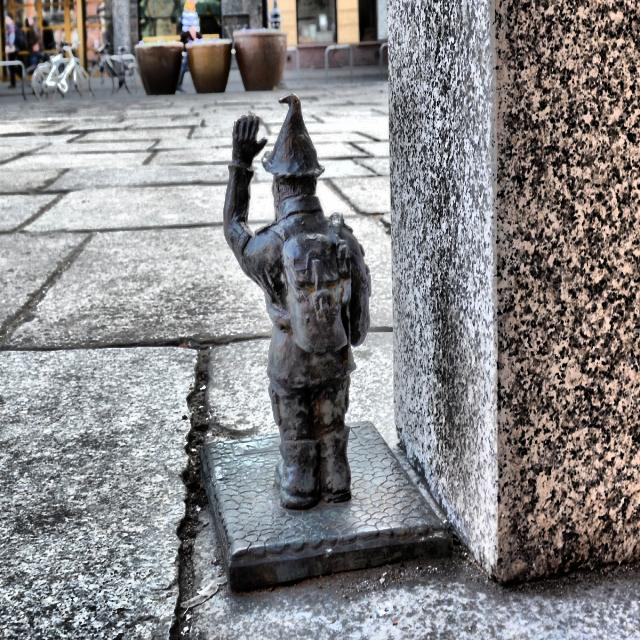Weteran: (224, 95, 370, 510)
